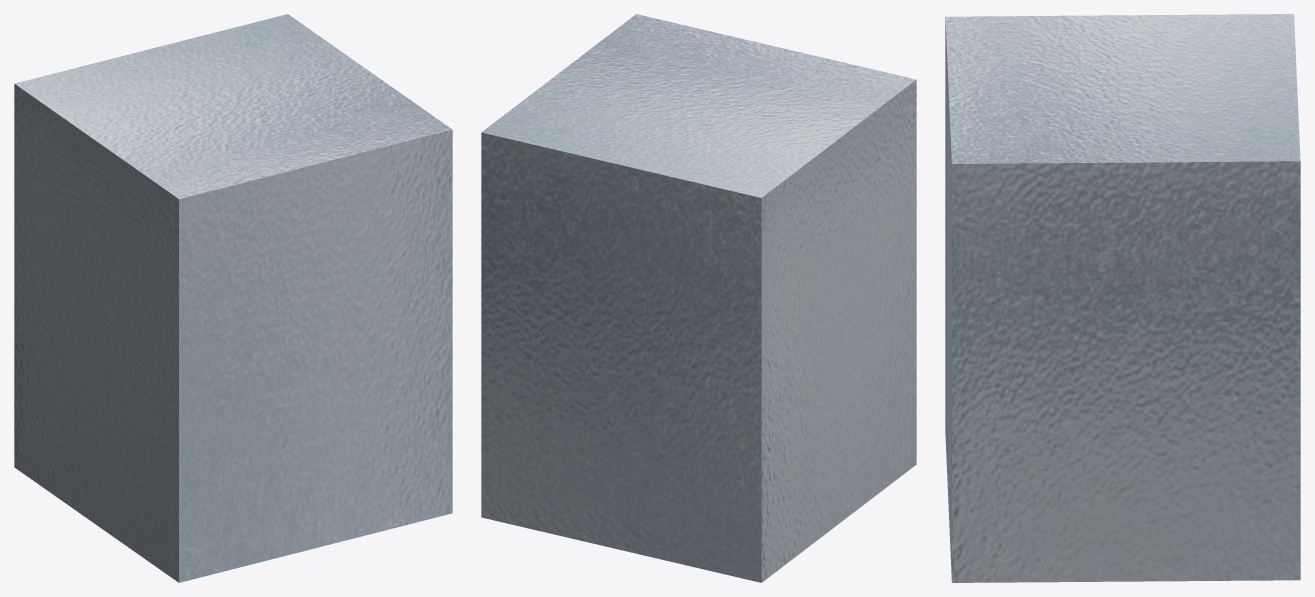
File: SanMartin.gltf
The picture shows the model from 3 angles, left to right: view 1: azimuth 30°, elevation 25°; view 2: azimuth 150°, elevation 25°; view 3: azimuth 270°, elevation 25°; orthographic projection. The views are drawn at different scales.
Parts seen in each view (by area): view 1: SanMartin; view 2: SanMartin; view 3: SanMartin.
Boxes of the visible parts, x1=… form: SanMartin: x1=14, y1=14, x2=452, y2=582; SanMartin: x1=481, y1=14, x2=916, y2=582; SanMartin: x1=945, y1=14, x2=1300, y2=582.
Size of the model in its own units: 0.759 by 0.9884 by 0.759.
Materials: 1 (1 with a texture image).
